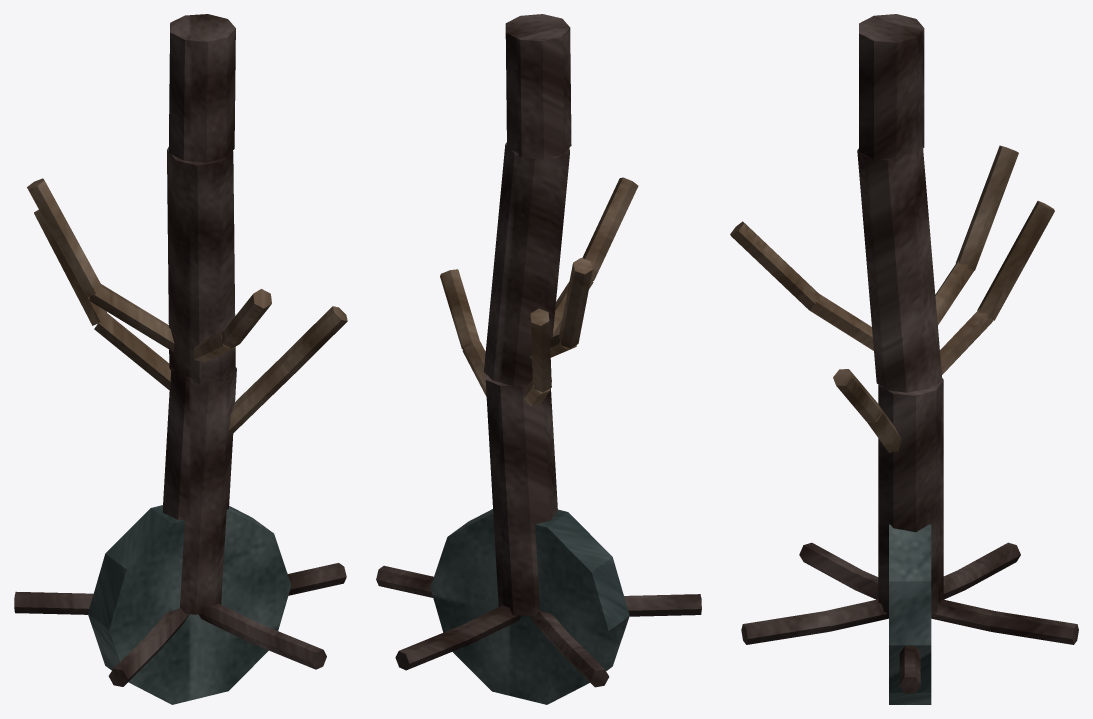
The model's file is 0137_dead_tree_12.glb.
3 views of the same model, side by side, from view 1: azimuth 30°, elevation 25°; view 2: azimuth 150°, elevation 25°; view 3: azimuth 270°, elevation 25° (orthographic). The views are drawn at different scales.
Visible parts, largest first — view 1: wood_dark, stone_dark, wood; view 2: wood_dark, stone_dark, wood; view 3: wood_dark, wood, stone_dark.
Boxes of the visible parts, x1,y1,x2,y2 form: wood_dark: [14, 14, 346, 686]; stone_dark: [88, 505, 291, 704]; wood: [27, 178, 347, 435]; wood_dark: [376, 14, 701, 687]; stone_dark: [430, 509, 629, 704]; wood: [440, 177, 638, 406]; wood_dark: [741, 14, 1078, 693]; wood: [730, 145, 1054, 452]; stone_dark: [889, 524, 931, 704].
Size of the model in its own units: 1.66 by 3.79 by 1.8.
3 materials, 3 textured.
